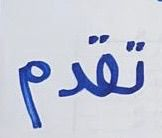dal: (57, 57, 87, 98)
noon: (119, 34, 145, 98)
teh_marbota: (15, 59, 53, 129), (88, 33, 118, 99)
